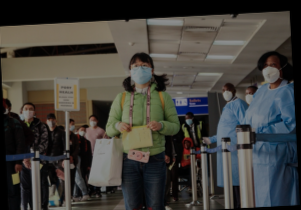with_mask: (129, 60, 153, 85), (262, 59, 280, 84), (221, 86, 233, 102), (21, 106, 35, 119), (244, 90, 255, 105), (44, 117, 56, 127), (88, 117, 98, 128), (185, 115, 194, 125), (78, 128, 86, 137), (68, 122, 75, 131)
without_mask: (183, 140, 190, 149)
